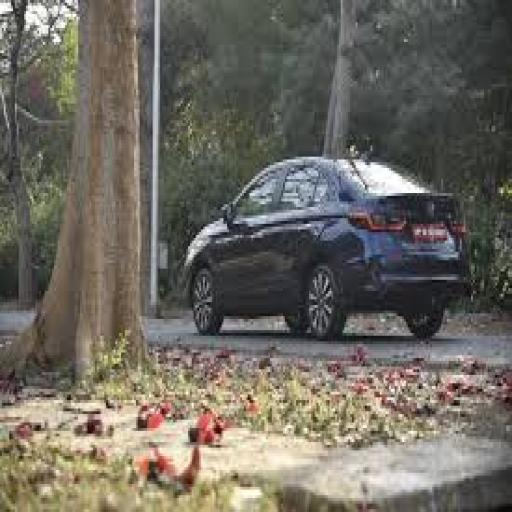License: (410, 218, 449, 245)
